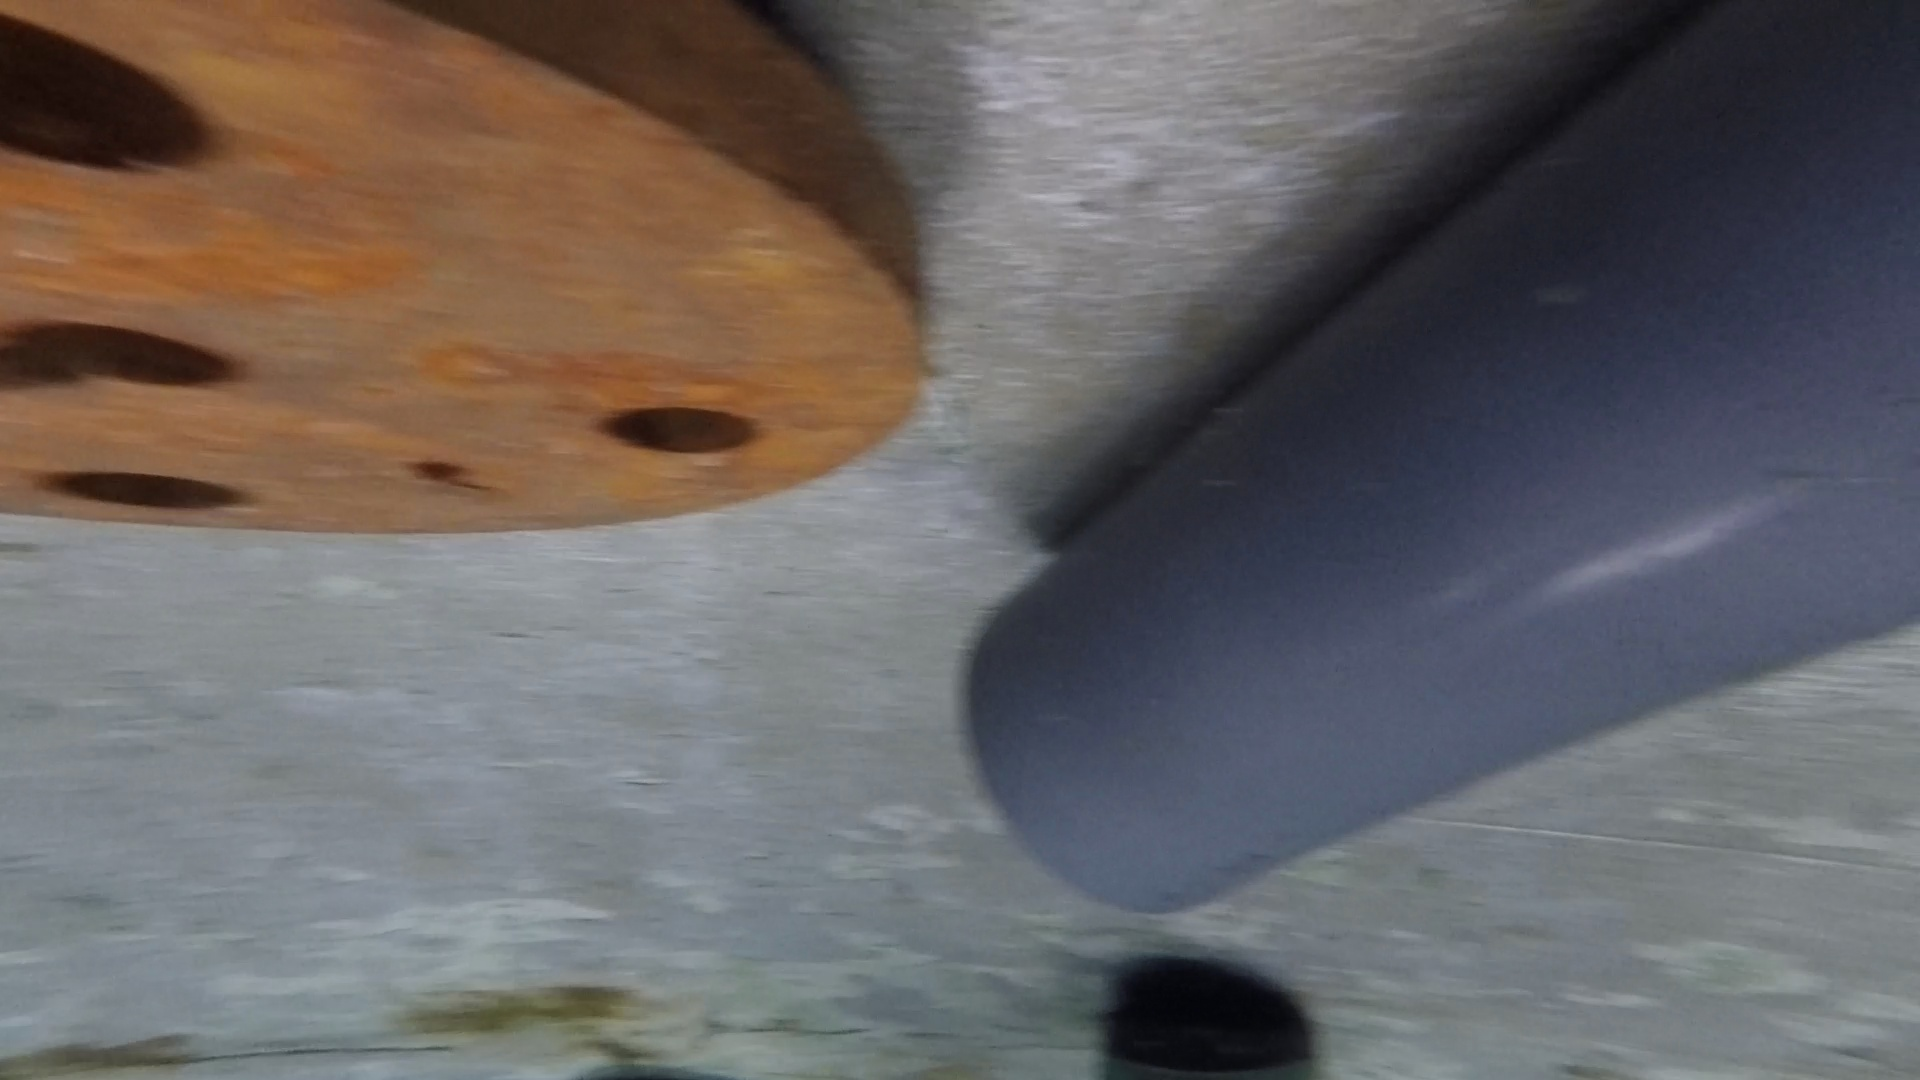flange: (1, 1, 924, 537)
pipe: (964, 3, 1920, 914)
